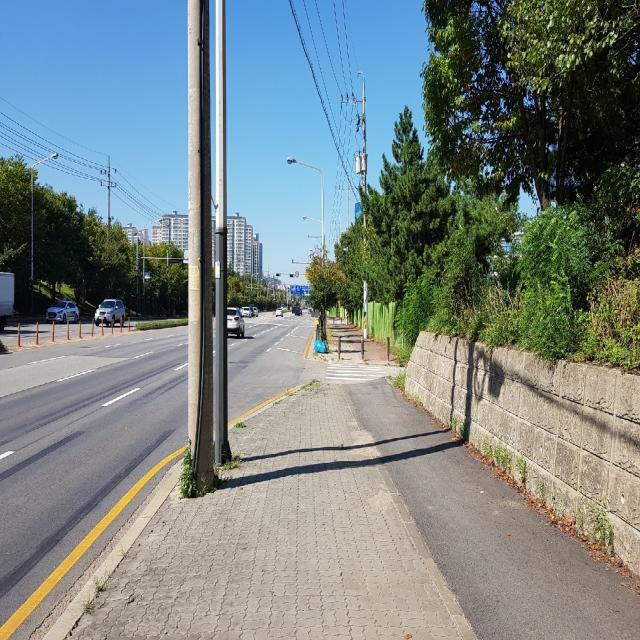횡단보도: (325, 362, 387, 381)
